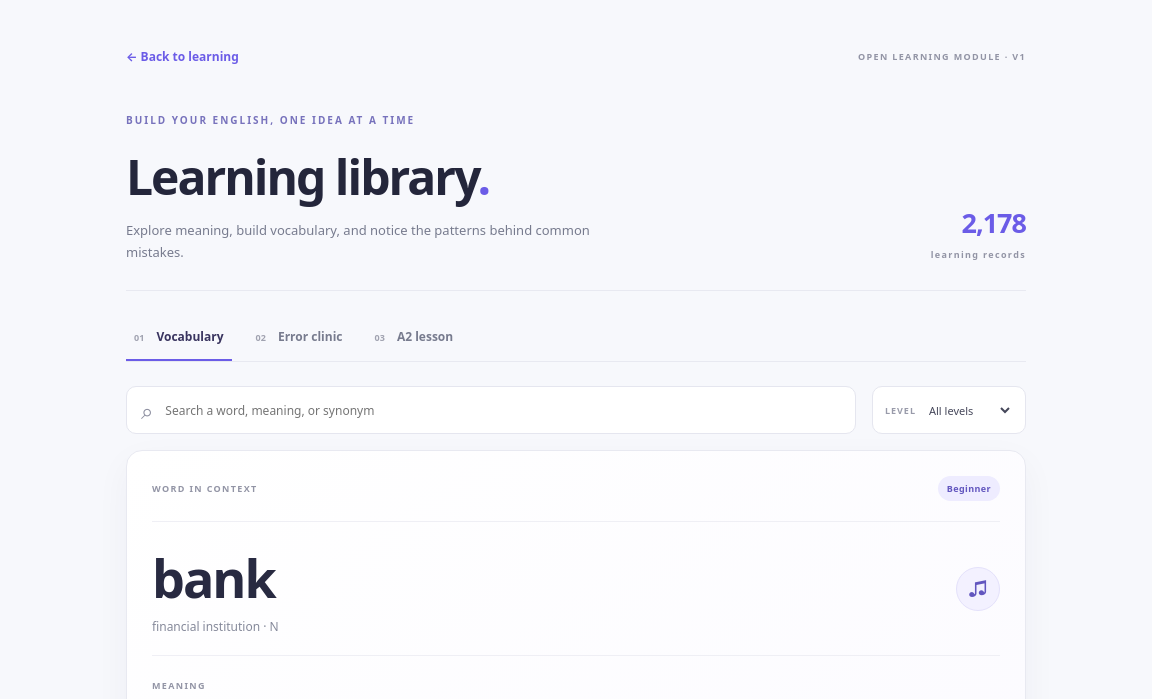
Test: reveals the correction, explanation, and production prompt in the error clinic
This screenshot has width=1152, height=699.
What coordinates should you click on to do the following:
click the button "02 Error clinic"
I would click on:
 (299, 336)
Its box is [248, 311, 350, 361].
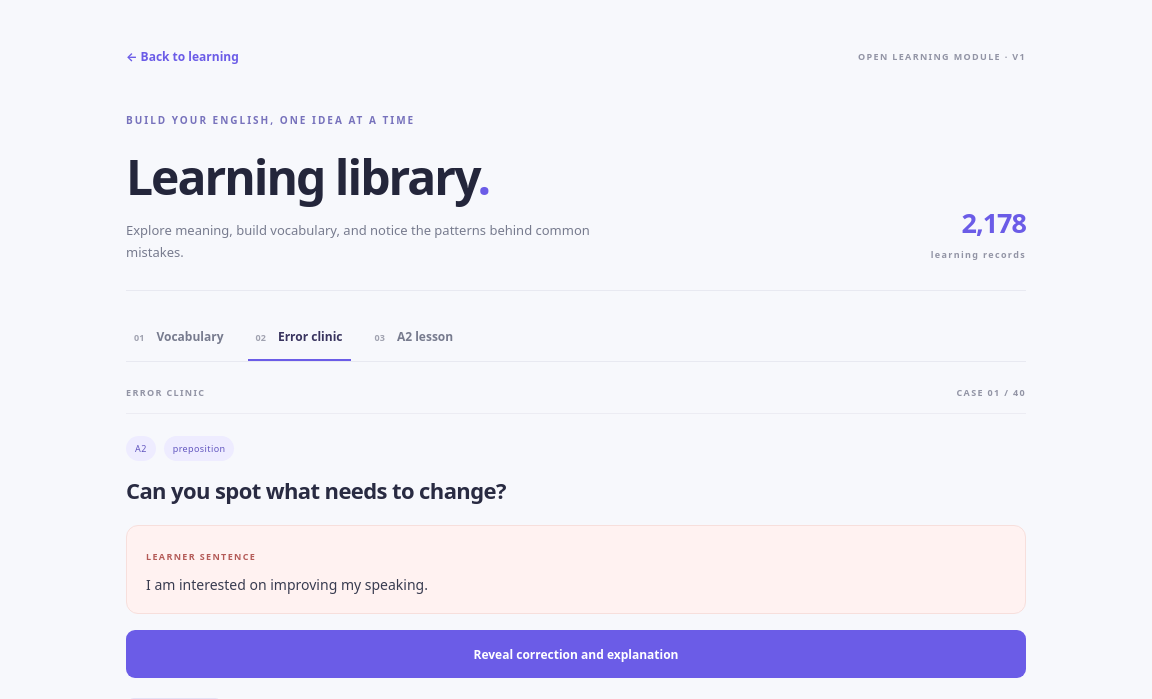
What coordinates should you click on to do the following:
click the button "Reveal correction and explanation"
I would click on:
 (576, 654)
Its box is [126, 630, 1026, 678].
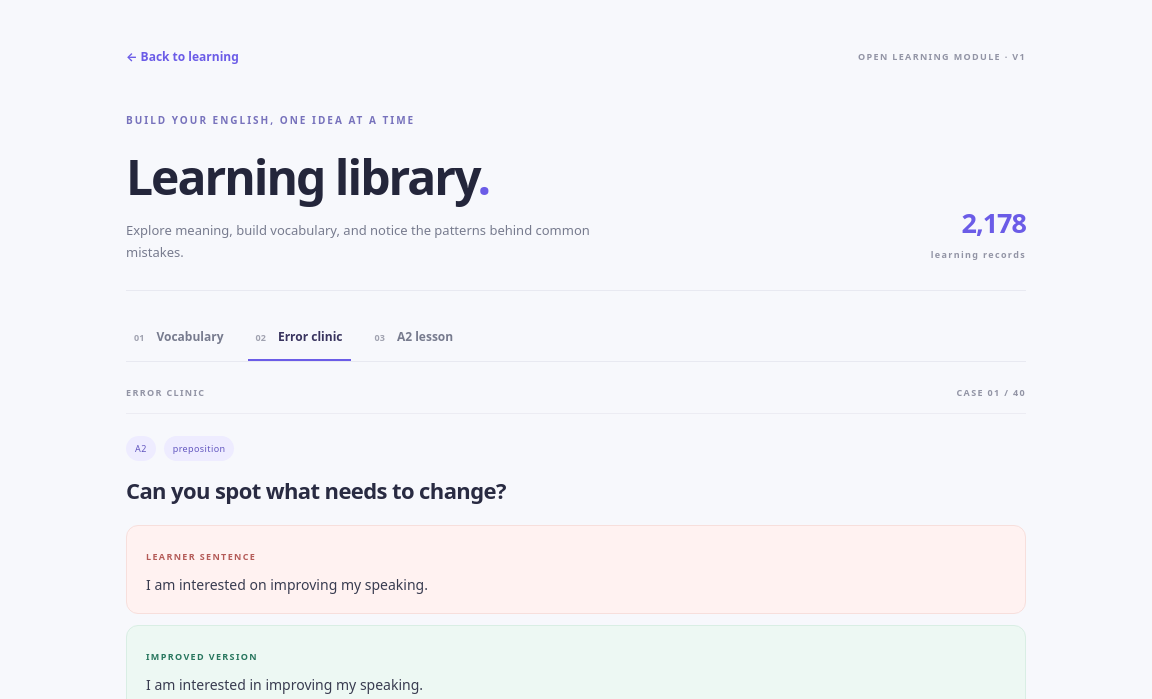
Check: the text "the pattern" is shown, box [126, 221, 590, 261]
Check: the text "IMPROVED VERSION" is shown, box [146, 650, 258, 663]
